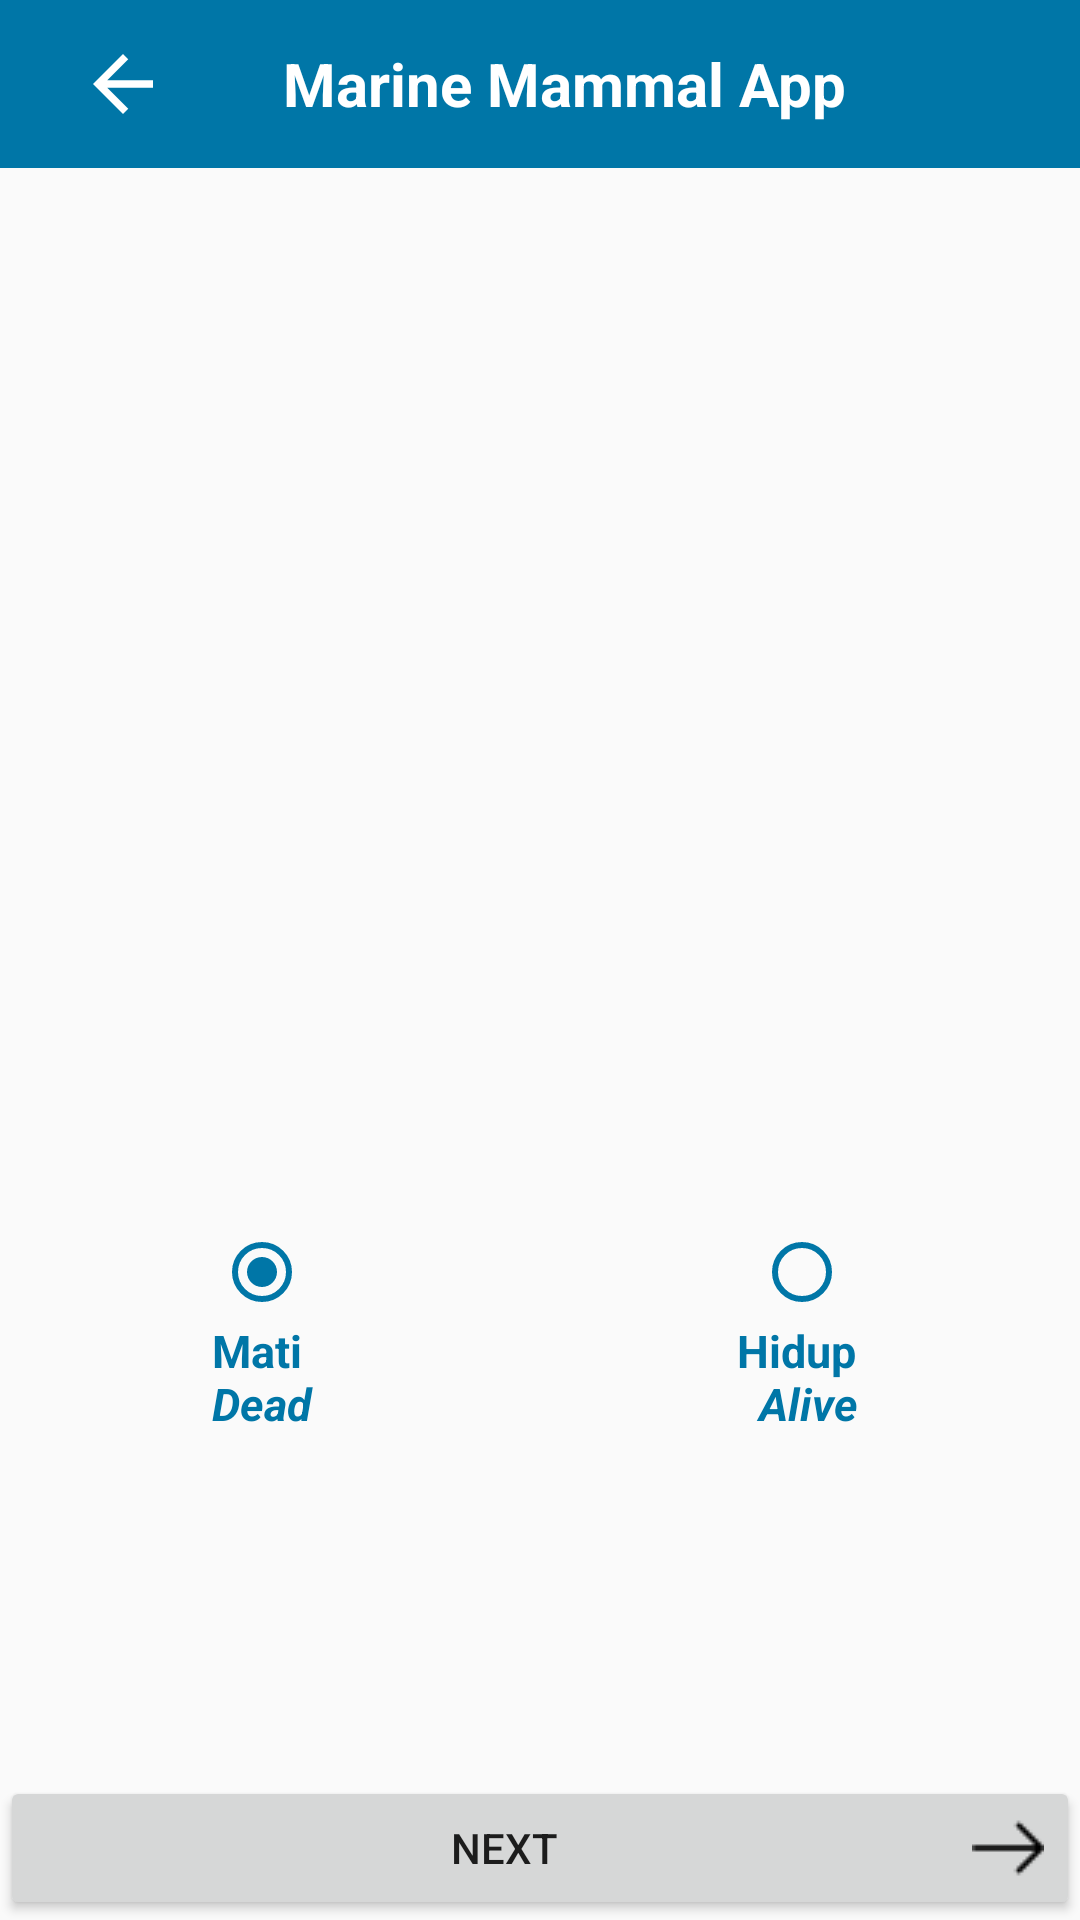

Icon bounding boxes for this 1080*1920 phone screenshot, format (x1, y1, x2, y2):
Back button: (93, 54, 153, 114)
